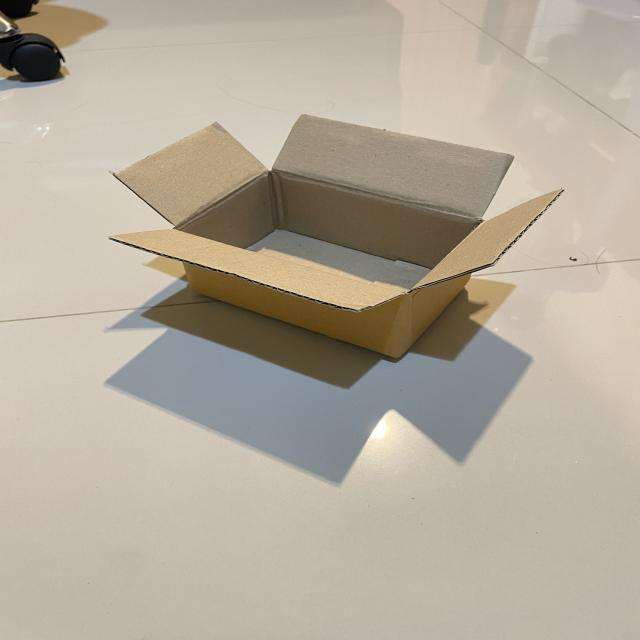box: (108, 114, 566, 364)
opened: (108, 114, 565, 315)
